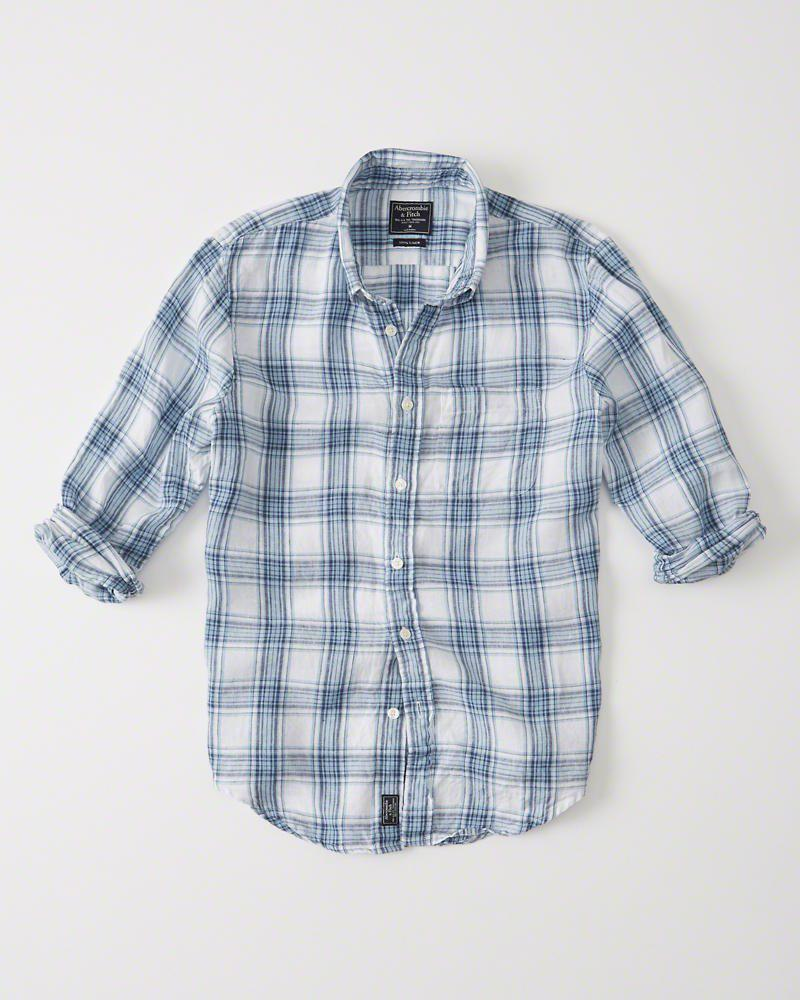teeshirt: (59, 143, 773, 860)
